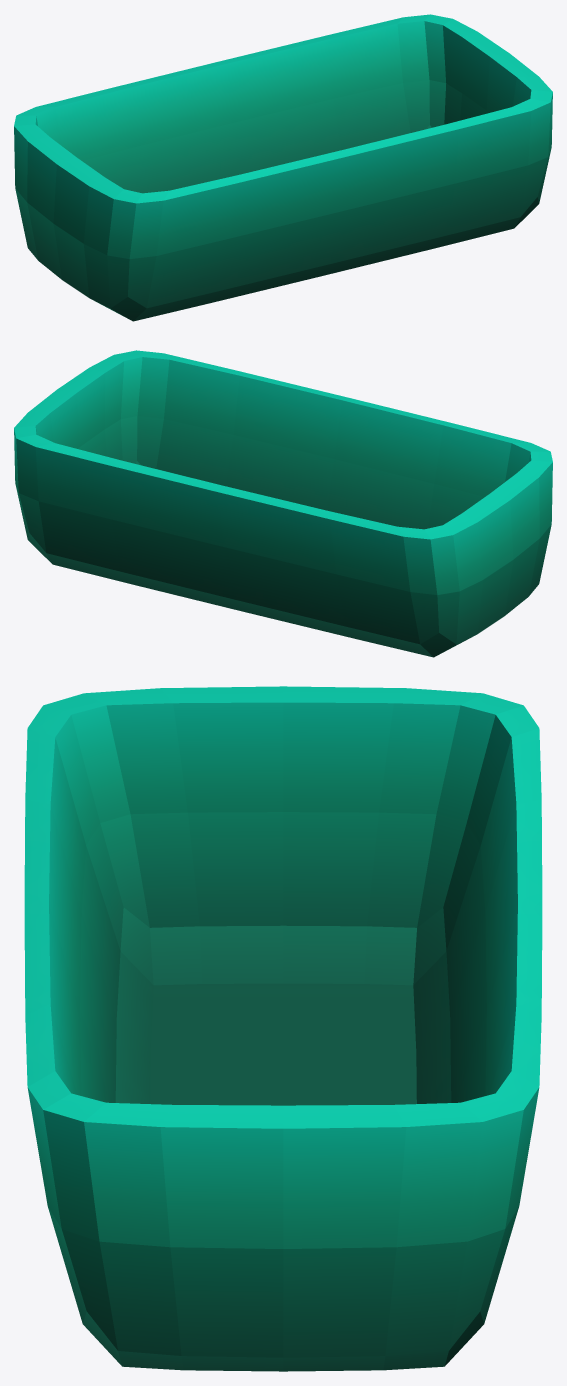
The model's file is PlantPot_LongA.fbx.
The picture shows the model from 3 angles, top to bottom: view 1: azimuth 30°, elevation 25°; view 2: azimuth 150°, elevation 25°; view 3: azimuth 270°, elevation 25°; orthographic projection. The views are drawn at different scales.
Visible parts, largest first — view 1: PlantPot_LongA; view 2: PlantPot_LongA; view 3: PlantPot_LongA.
Part boxes in pixels (box(x1,y1,x2,y2)): PlantPot_LongA: box(14, 14, 552, 321); PlantPot_LongA: box(14, 350, 552, 657); PlantPot_LongA: box(24, 686, 542, 1371).
Size of the model in its own units: 62.7 by 18.02 by 30.57.
